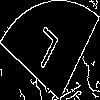L: (25, 25, 61, 79)
